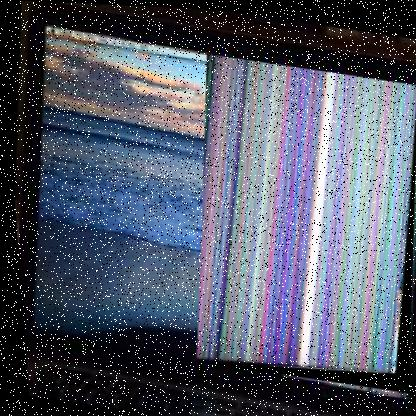lines: (172, 51, 415, 392)
